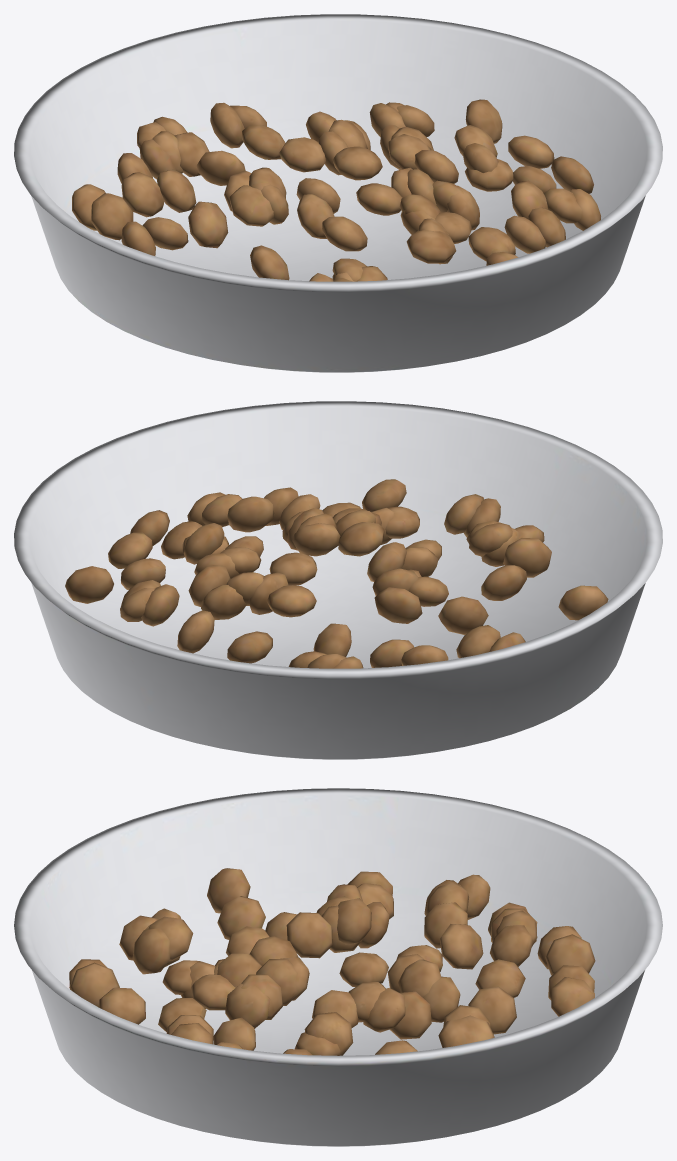
The model's file is dog_bowl.glb.
The picture shows the model from 3 angles, top to bottom: view 1: azimuth 30°, elevation 25°; view 2: azimuth 150°, elevation 25°; view 3: azimuth 270°, elevation 25°; orthographic projection.
Parts seen in each view (by area): view 1: dog_bowl; view 2: dog_bowl; view 3: dog_bowl.
Boxes of the visible parts, x1,y1,x2,y2 form: dog_bowl: (14, 14, 662, 372); dog_bowl: (14, 401, 662, 759); dog_bowl: (14, 788, 662, 1146).
Bounding box in the file's own units: 8.2 × 1.5 × 8.2.
1 material, 1 textured.
